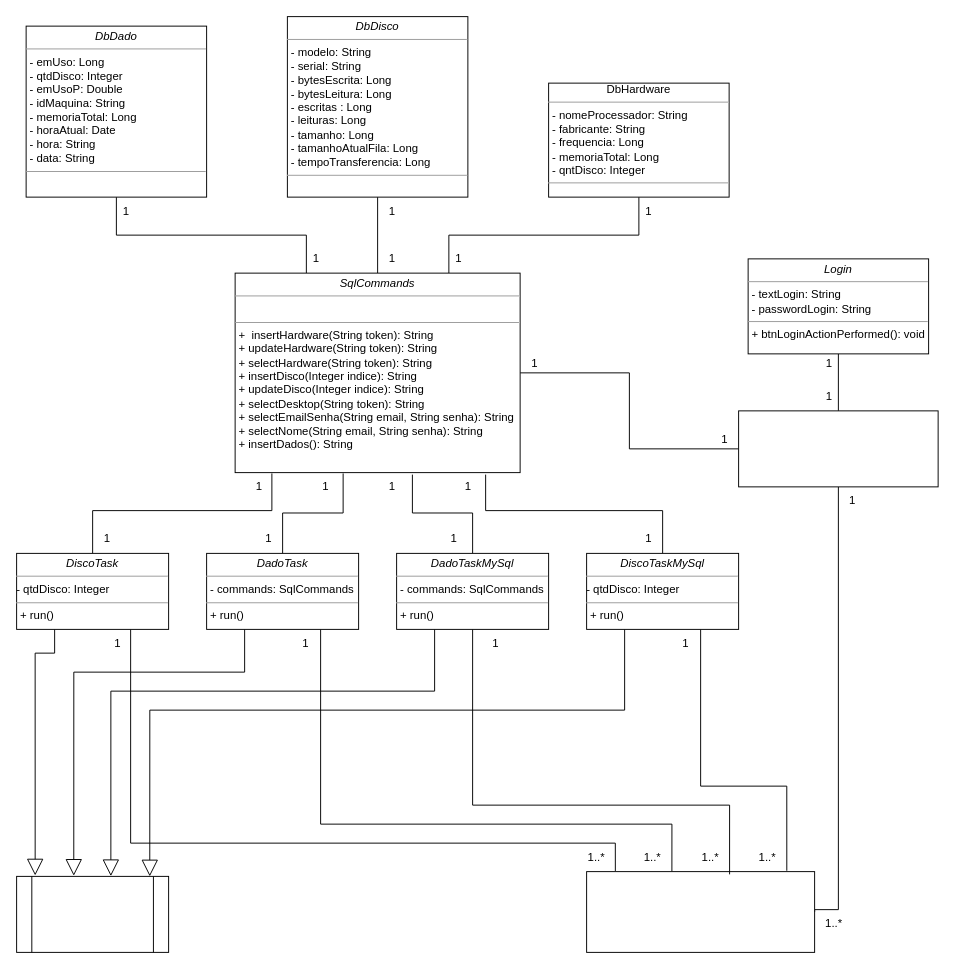
Some shapes in this 955 by 969 pixel diagram are drawn without their labels. The box of each missing label's shape, as (x1, y1, x2, y2) in pixels:
MostrarDado + mostrarTudoActionPerformed(): void: (586, 871, 815, 952)
TimeTask: (16, 875, 169, 952)
Token - tokenInserido: String + botaoTokenActionPerformed (): void: (738, 410, 938, 487)
